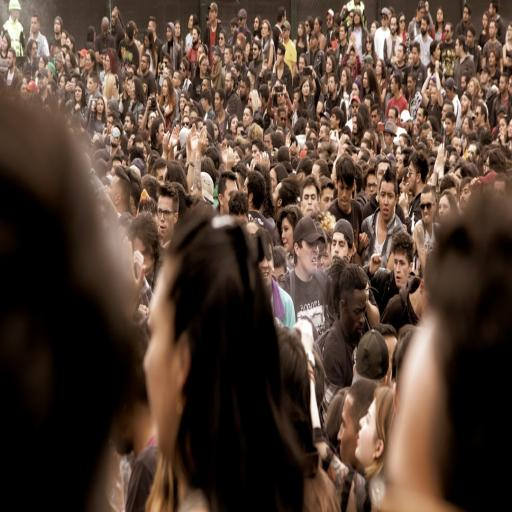face: (144, 262, 184, 453), (356, 400, 381, 467), (338, 394, 359, 467), (341, 290, 366, 339), (158, 195, 177, 244), (294, 240, 319, 277), (379, 181, 396, 223), (394, 252, 411, 289), (259, 245, 273, 288), (420, 192, 437, 226), (336, 180, 354, 212), (300, 185, 318, 216), (331, 232, 350, 258), (282, 218, 293, 252), (320, 187, 333, 212), (319, 244, 331, 269), (439, 196, 451, 220), (366, 174, 376, 198)
